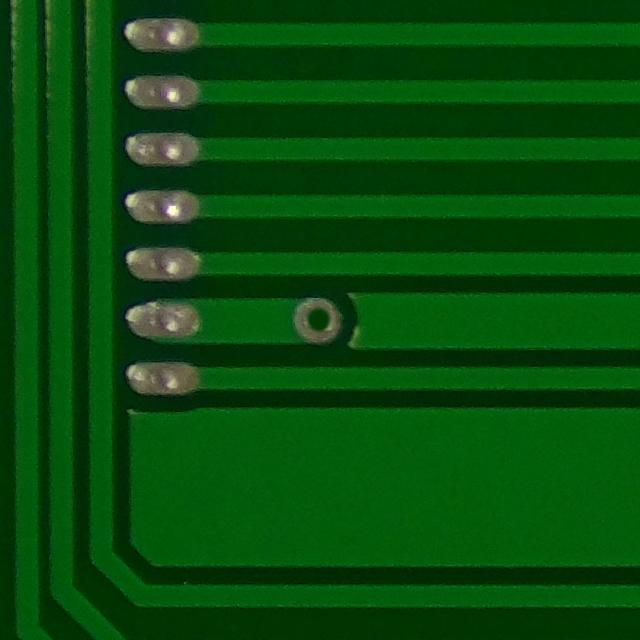missing_hole: (285, 285, 355, 355)
